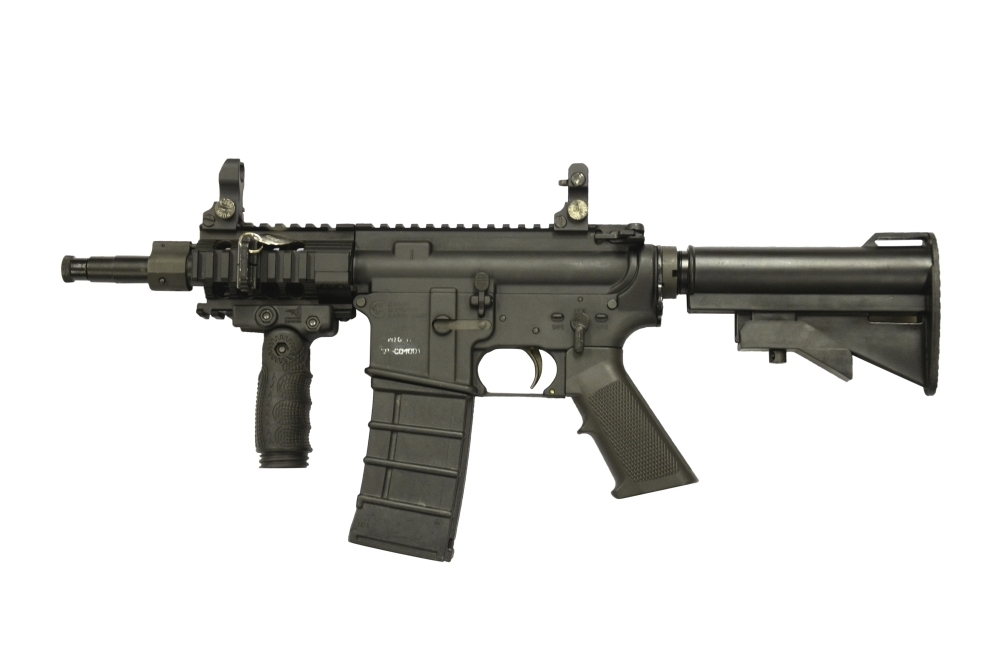m4_carbine: (353, 220, 702, 591)
